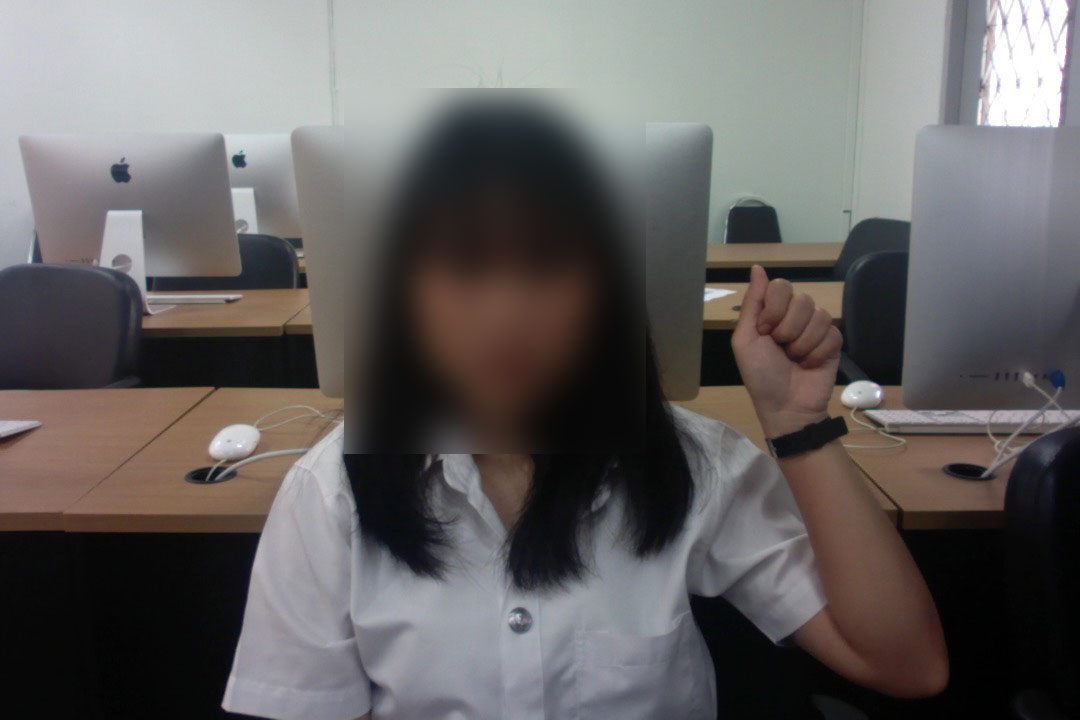or: (726, 258, 846, 438)
